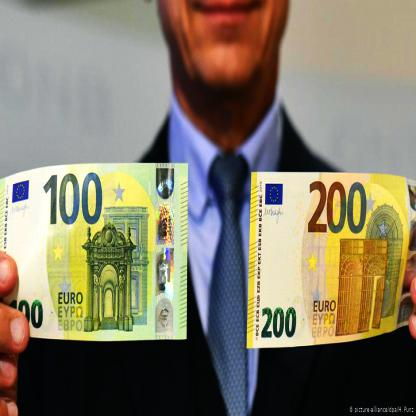euro_banknote: (1, 164, 190, 342), (243, 177, 416, 345)
